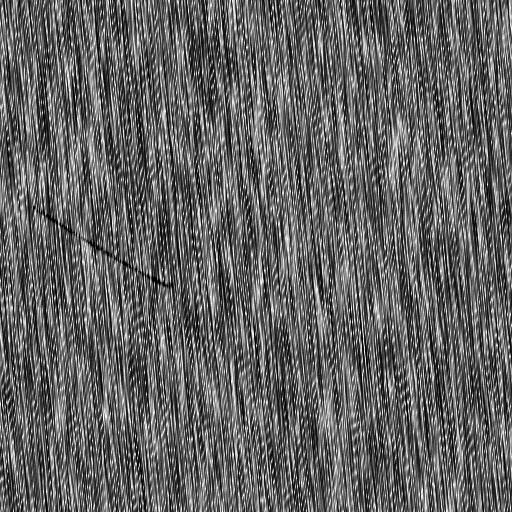DefectTypeC: (31, 204, 174, 289)
